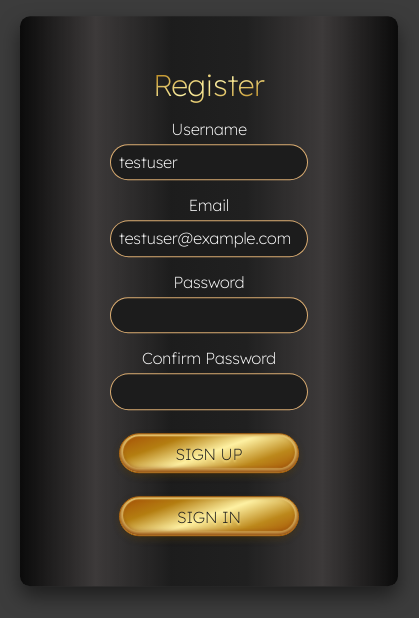
Test case: switches to SignInModal when clicking SIGN IN button
What coordinates should you click on to do the following:
click the button "SIGN IN"
I would click on:
 (209, 516)
Its box is [119, 496, 299, 536].
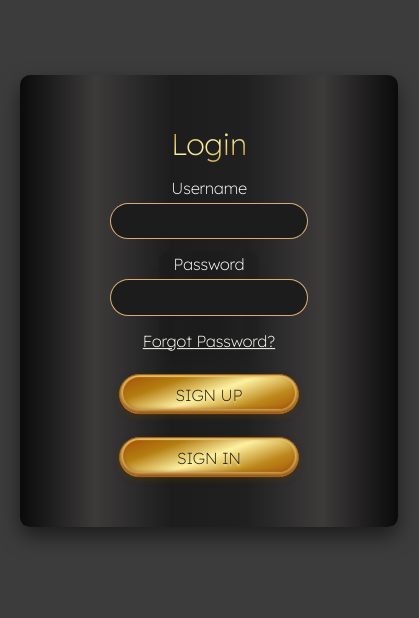
Check: the text "Login" is shown, box [70, 125, 348, 163]
